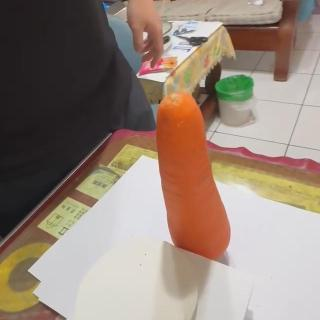carrot: (155, 91, 231, 255)
